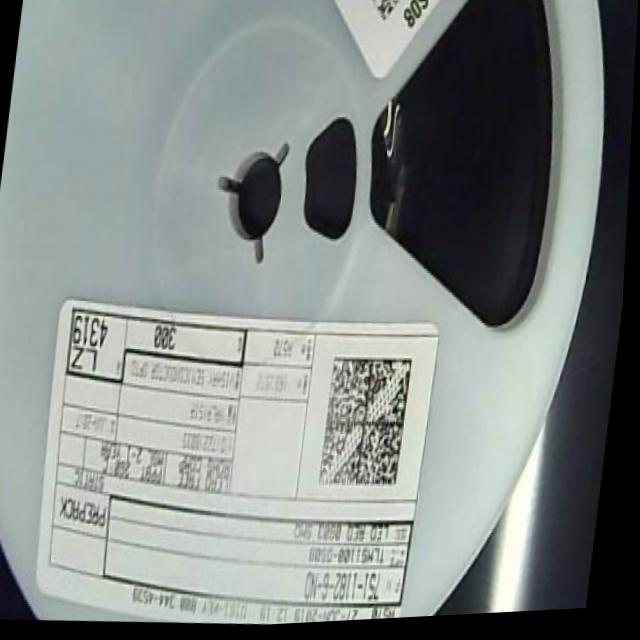datamatrix: (320, 356, 418, 499)
